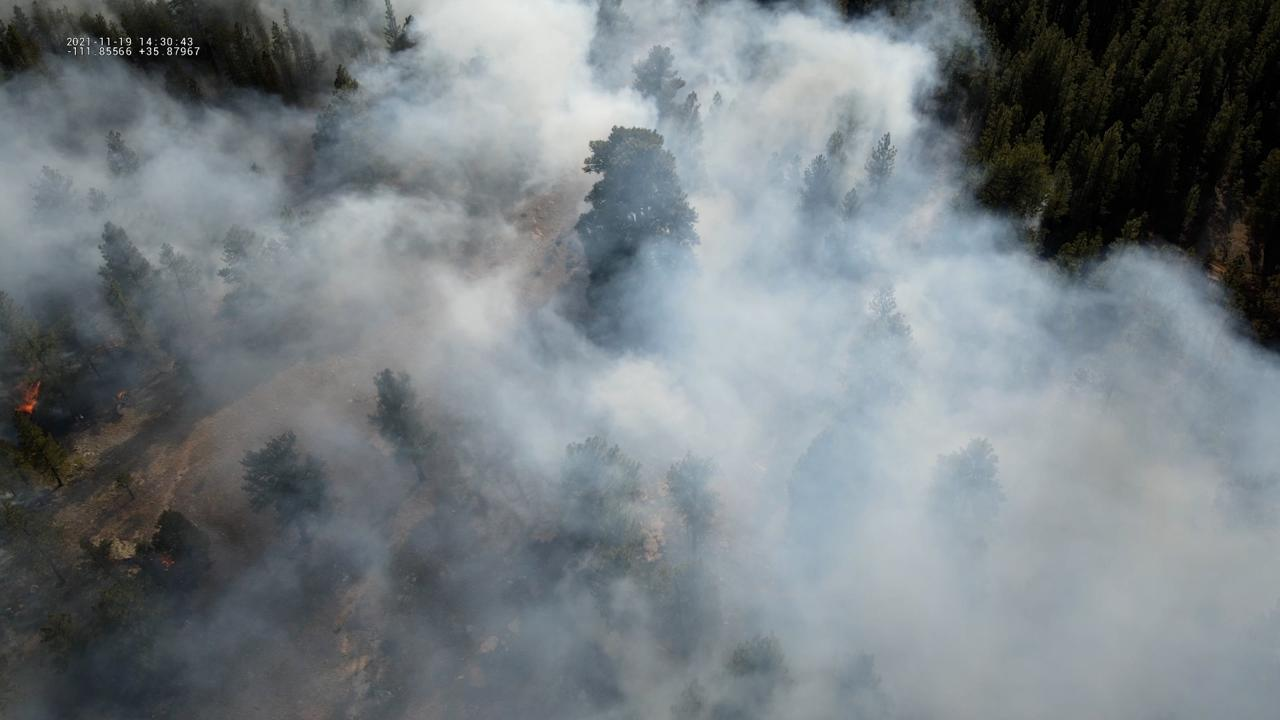fire: (12, 377, 44, 416), (158, 553, 176, 571), (115, 390, 126, 402)
smoke: (0, 0, 1280, 720)
